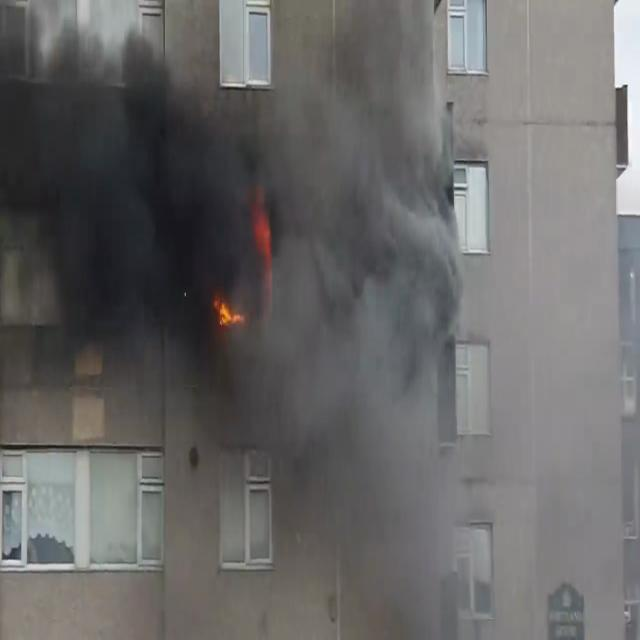Fire: (212, 288, 243, 332)
Smoke: (0, 0, 473, 629)
